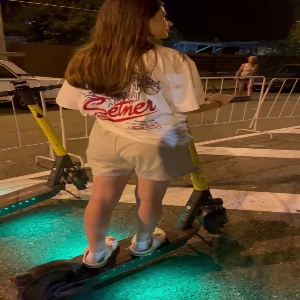human on a scooter: (5, 1, 252, 300)
